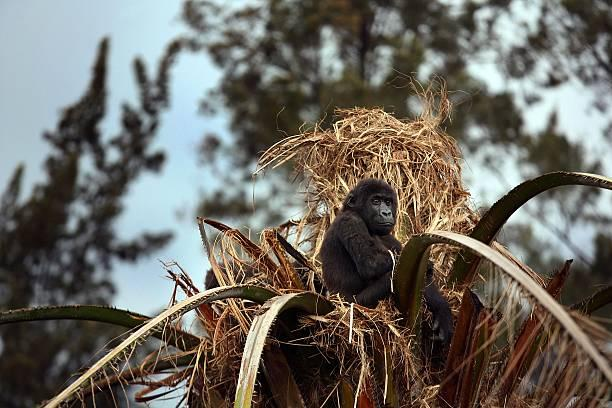gorille_Autres: (268, 148, 467, 330)
